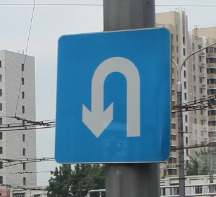u_turn: (53, 27, 171, 163)
